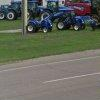Tractor: (26, 7, 93, 48)
